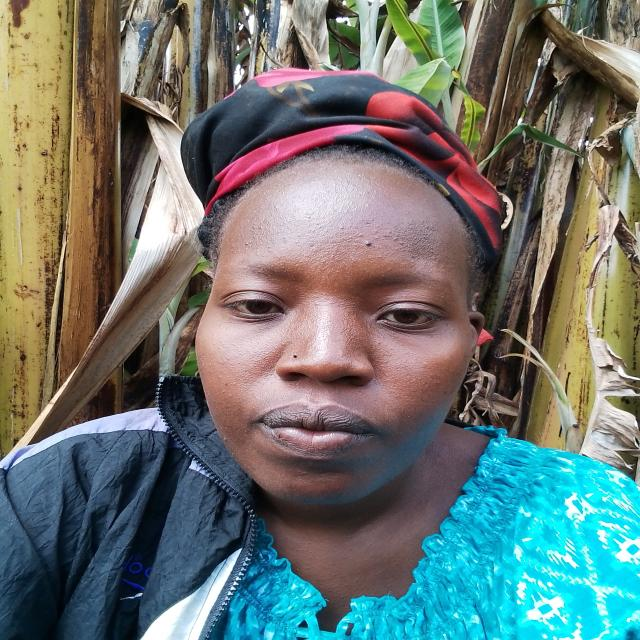Dry-Skin: (389, 221, 442, 262), (243, 224, 274, 253)
